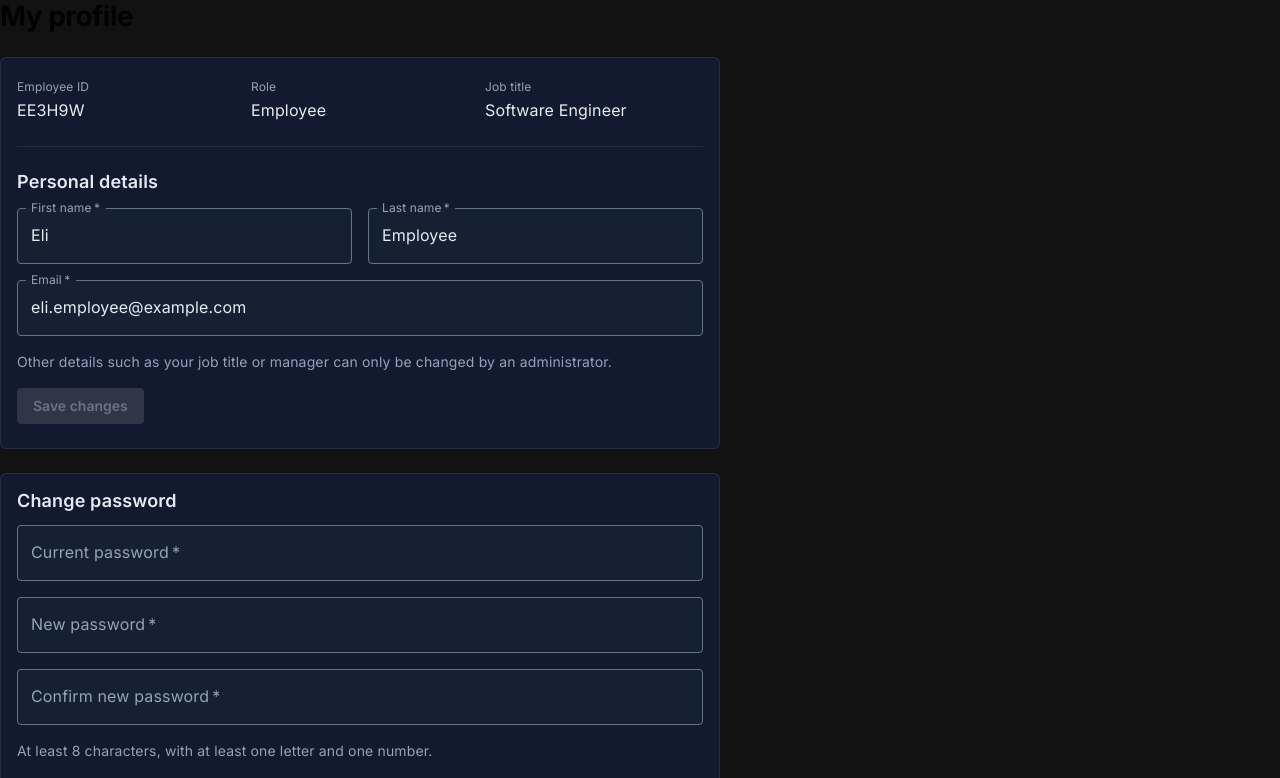
Test case: ProfilePage › lets any user change their password
Type "Empl01" into the password field labelled "Current password *" at coordinates (360, 554), box [17,526,703,582]
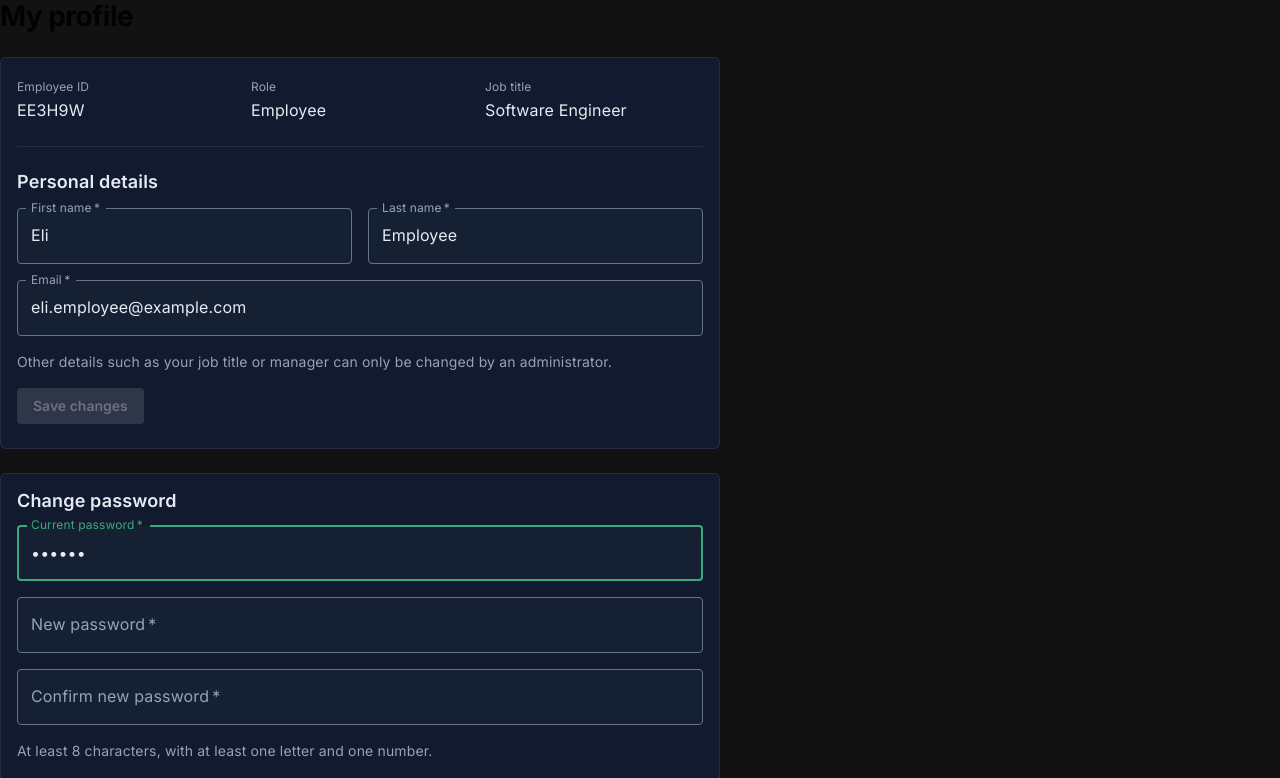
Type "Brighter9day" into the password field labelled "New password *" at coordinates (360, 626), box [17,598,703,654]
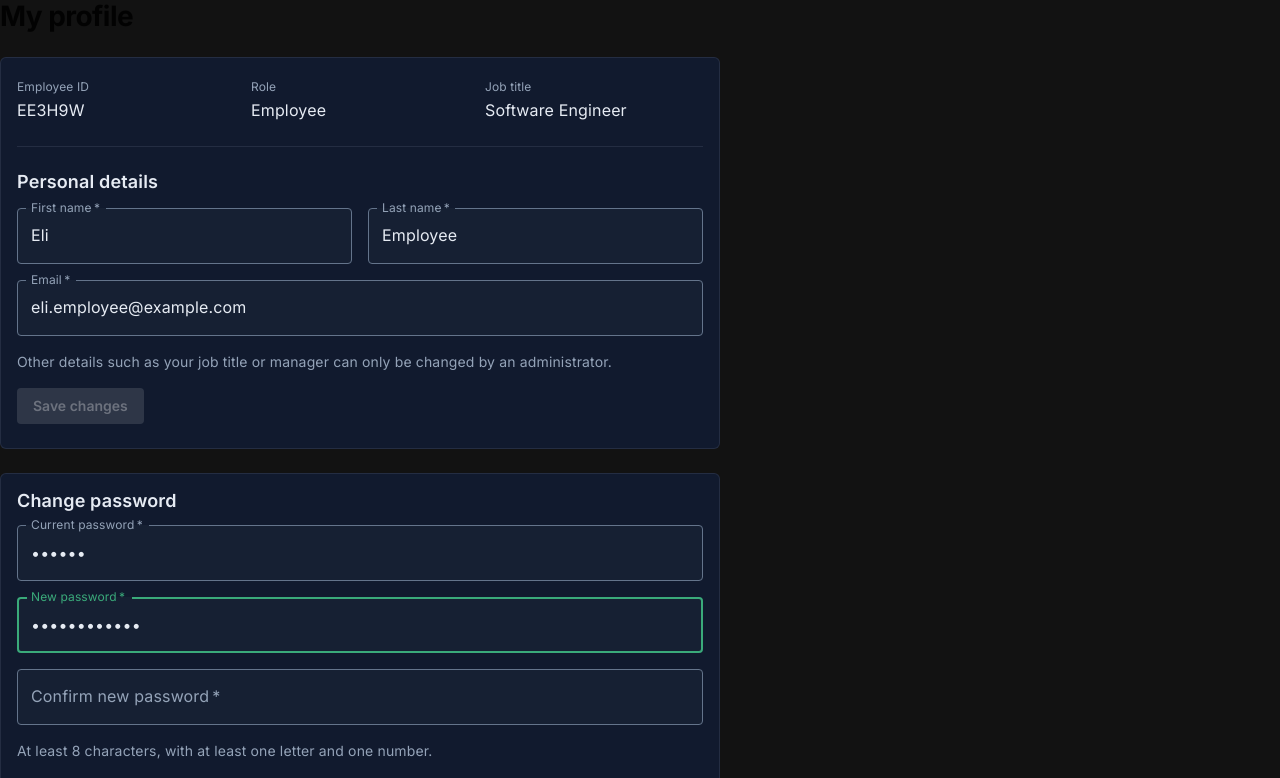
Type "Brighter9day" into the password field labelled "Confirm new password *" at coordinates (360, 698), box [17,670,703,726]
(page scrolled)
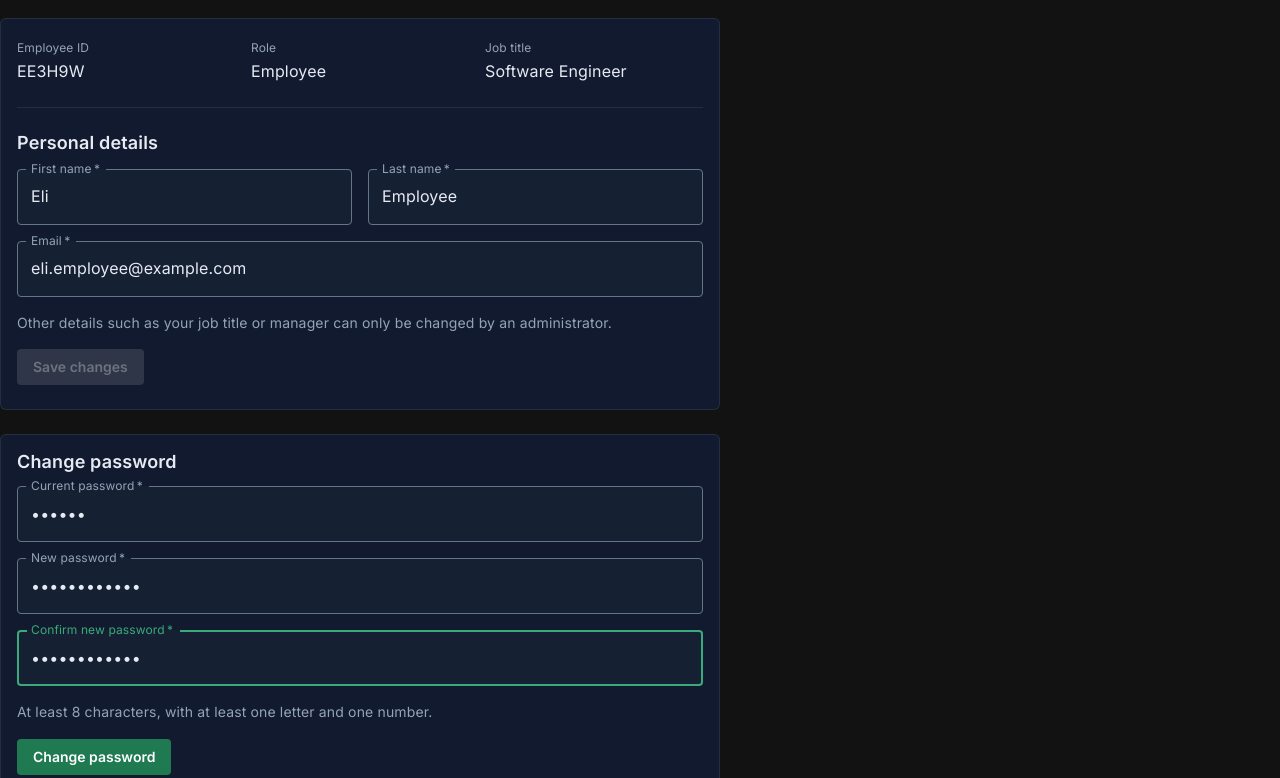
Click the button "Change password" at coordinates (94, 757), box [17,738,171,775]
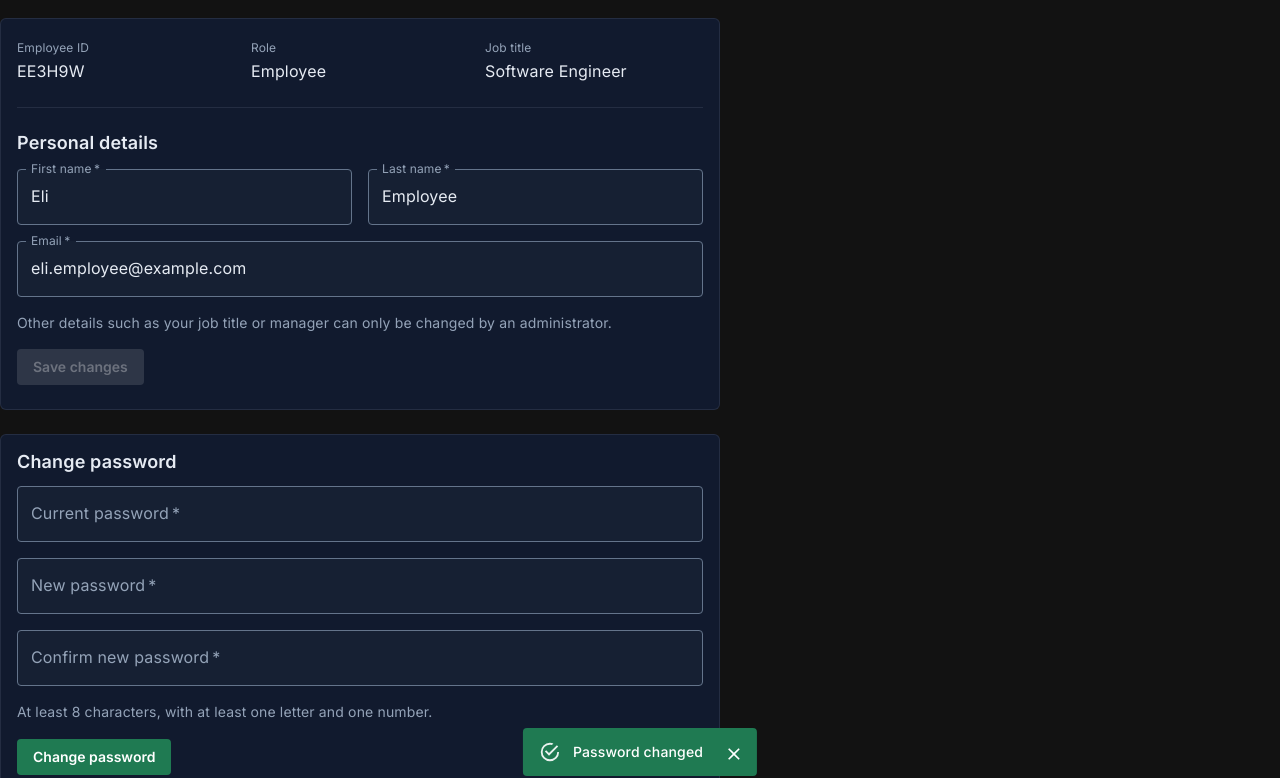
Result: the text "Password changed" is shown at [573,743,703,760]
